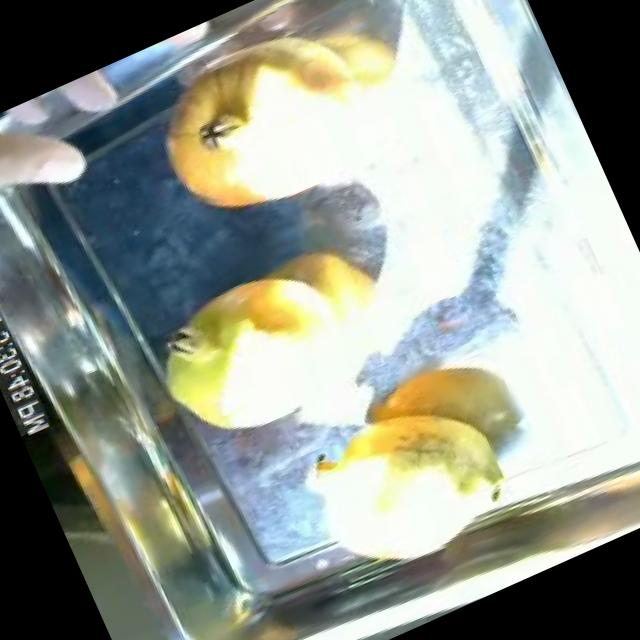fruit: (118, 226, 396, 477), (280, 358, 546, 602)
